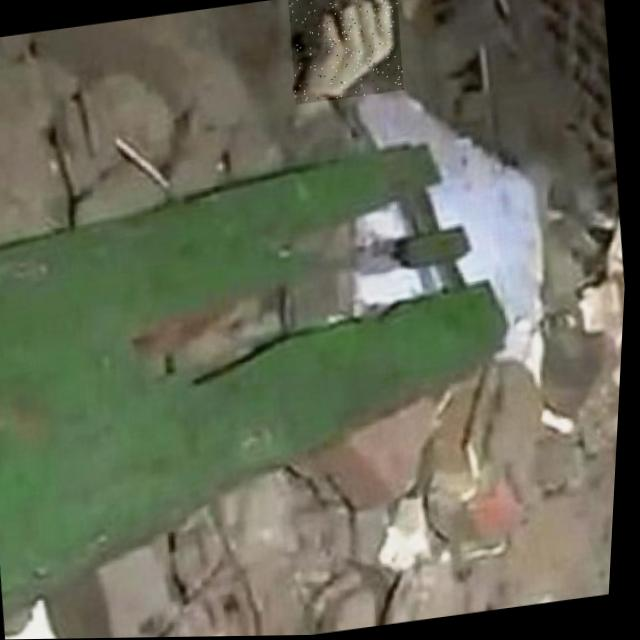Person in Rubble: (283, 0, 407, 105)
